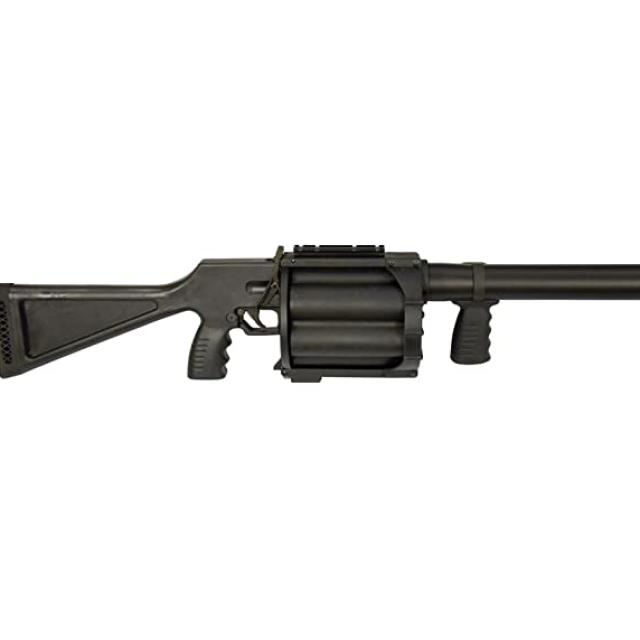Weapon: (0, 245, 640, 380)
